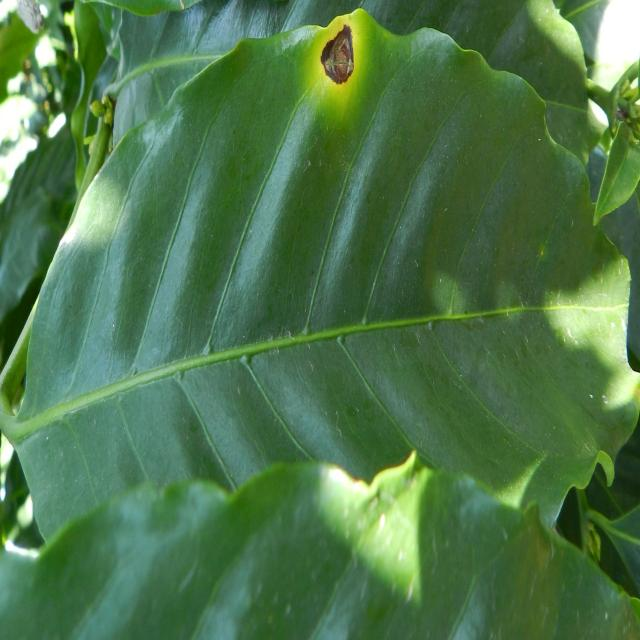Enfermedad-Mancha-de-hierro: (4, 10, 640, 543)
